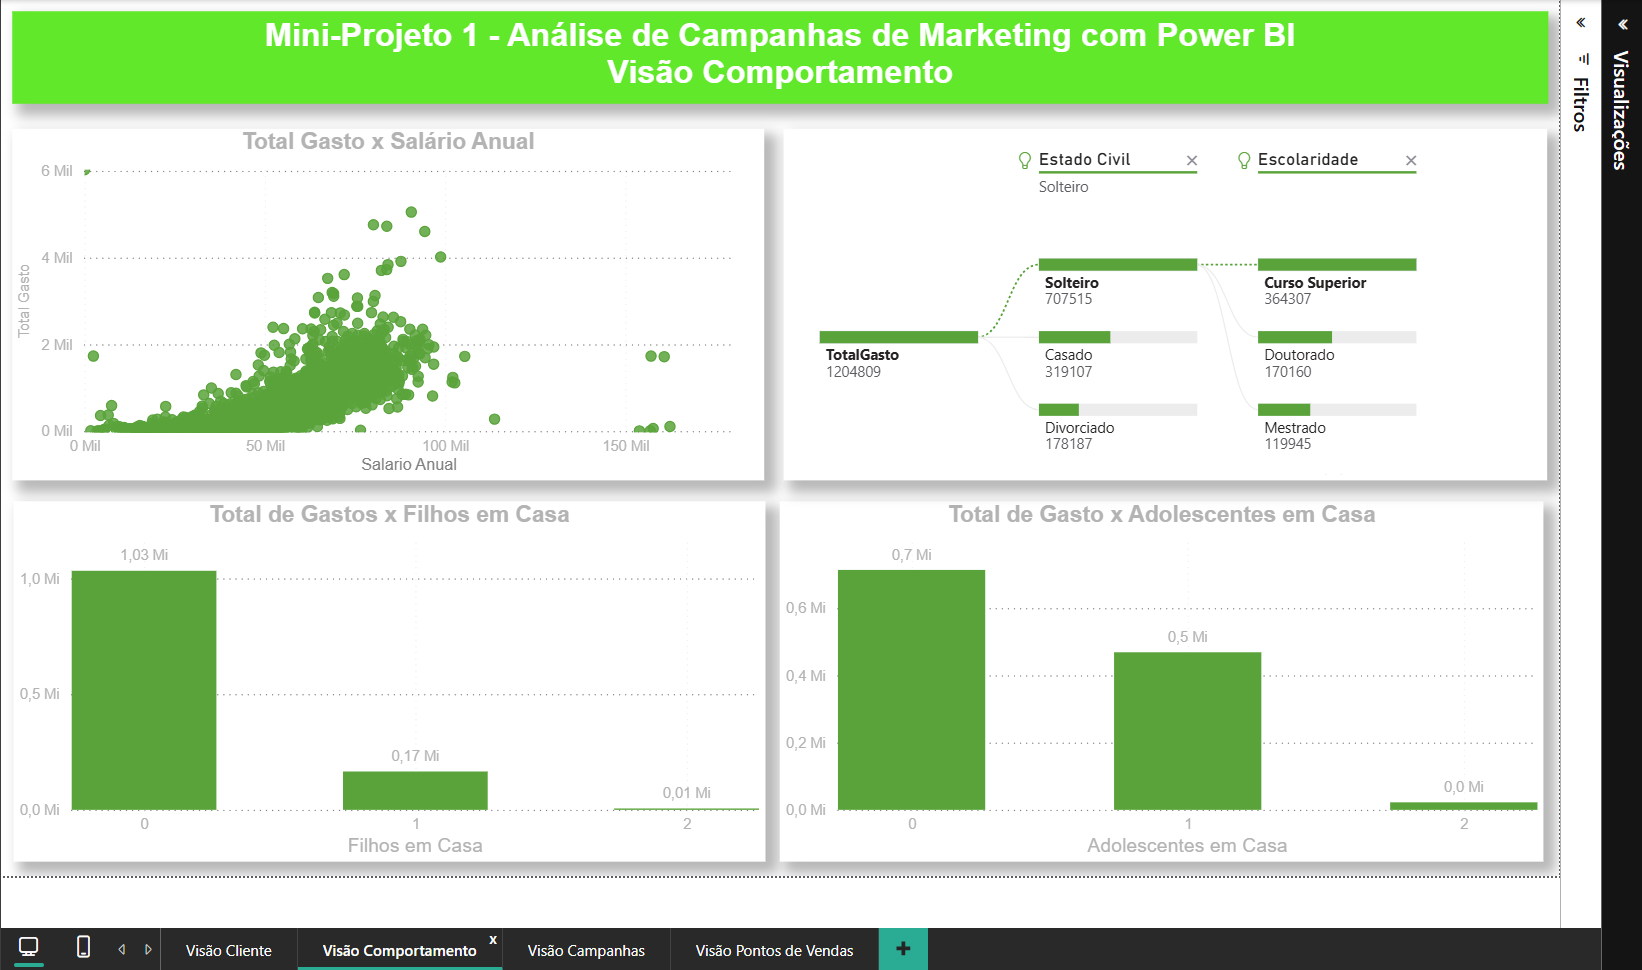

The page's visual inventory and layout, read from the dashboard file:
{"tool":"powerbi","page":{"name":"Visão Comportamento","canvas":[1280,720],"ordinal":1},"visuals":[{"type":"scatterChart","title":"Total Gasto x Salário Anual","fields":{"X":["Dados_Marketing.Salario Anual"],"Y":["Dados_Marketing.Total Gasto"]},"box":[8.8,106.2,617.5,288.8],"z":0},{"type":"clusteredColumnChart","title":"Total de Gastos x Filhos em Casa","fields":{"Y":["Dados_Marketing.TotalGasto"],"Category":["Dados_Marketing.Filhos em Casa"]},"box":[10,411.2,617.5,296.2],"z":1000},{"type":"clusteredColumnChart","title":"Total de Gasto x Adolescentes em Casa","fields":{"Y":["Dados_Marketing.TotalGasto"],"Category":["Dados_Marketing.Adolescentes em Casa"]},"box":[640,411.2,627.5,296.2],"z":2000},{"type":"decompositionTreeVisual","fields":{"Analyze":["Dados_Marketing.TotalGasto"],"ExplainBy":["Dados_Marketing.Estado Civil","Dados_Marketing.Escolaridade"]},"box":[642.5,106.2,627.5,288.8],"z":2001},{"type":"textbox","box":[9.4,9.4,1261.5,76.1],"z":2002}]}

Visuals, with their boxes on the page's 1280x720 design canvas (x1, y1, x2, y2). These are canvas units, not pixel positions in the 1642x970 screenshot, which may show the page scaled, cropped or inside an application window:
"Total Gasto x Salário Anual" scatterChart: crop(9, 106, 626, 395)
"Total de Gastos x Filhos em Casa" clusteredColumnChart: crop(10, 411, 628, 707)
"Total de Gasto x Adolescentes em Casa" clusteredColumnChart: crop(640, 411, 1268, 707)
decompositionTreeVisual - Dados_Marketing.TotalGasto x Dados_Marketing.Estado Civil: crop(642, 106, 1270, 395)
textbox: crop(9, 9, 1271, 86)
